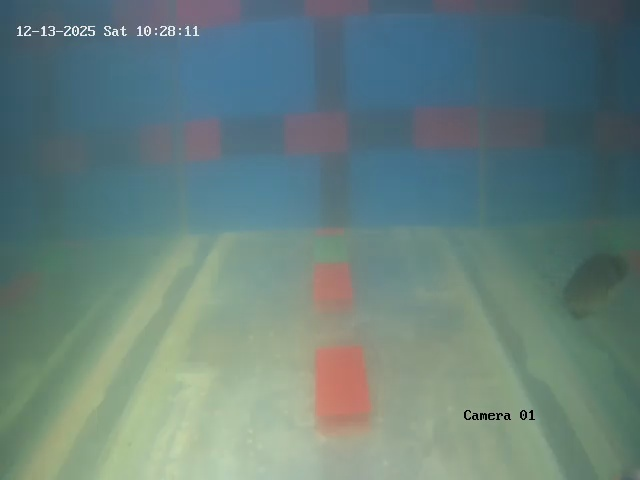fish: (555, 237, 630, 322)
